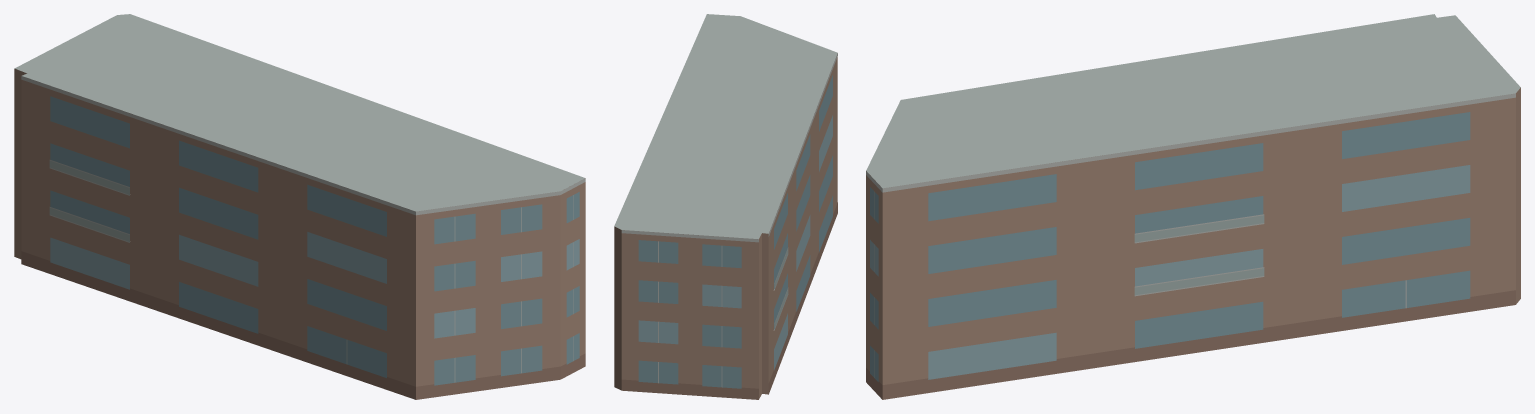
The model's file is survey-upis-32926333.glb.
3 views of the same model, side by side, from view 1: azimuth 30°, elevation 25°; view 2: azimuth 150°, elevation 25°; view 3: azimuth 270°, elevation 25° (orthographic). The views are drawn at different scales.
Visible parts, largest first — view 1: survey-upis-32926333.tmp; view 2: survey-upis-32926333.tmp; view 3: survey-upis-32926333.tmp.
Part boxes in pixels (bbox=[...]): survey-upis-32926333.tmp: bbox=[14, 14, 585, 399]; survey-upis-32926333.tmp: bbox=[614, 14, 837, 399]; survey-upis-32926333.tmp: bbox=[866, 14, 1520, 399].
Size of the model in its own units: 21.58 by 12.2 by 34.24.
